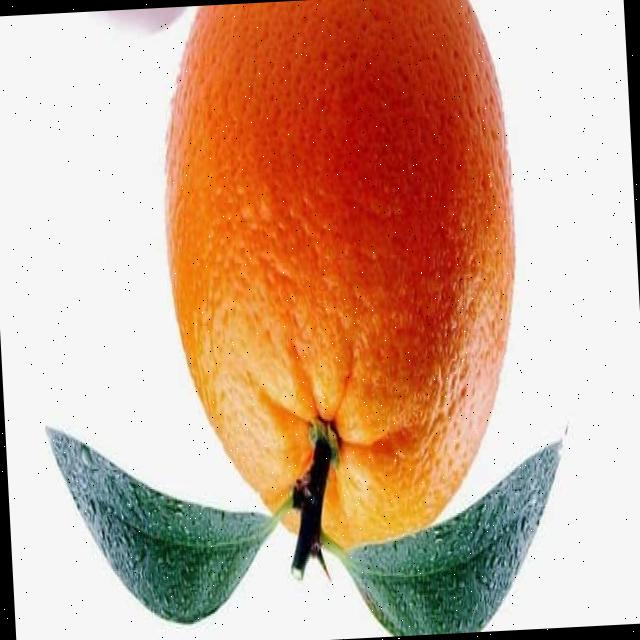Apel: (74, 8, 204, 42)
Jeruk: (152, 0, 533, 587)
